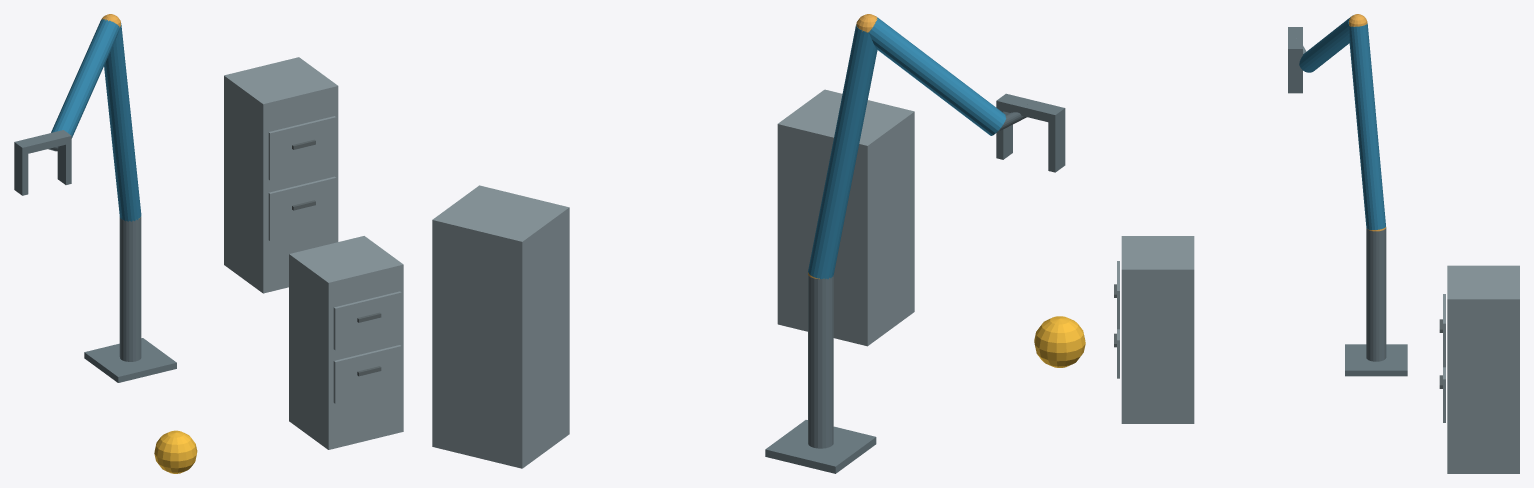
3 renders of one model, left to right at view 1: azimuth 30°, elevation 25°; view 2: azimuth 150°, elevation 25°; view 3: azimuth 270°, elevation 25°, orthographic. The views are drawn at different scales.
Visible parts, largest first — view 1: cabinet_2 body, cabinet_1 body, moving link 1, cabinet_2 drawer front, cabinet_2 drawer front.001, fixed post, cabinet_1 drawer front.001, cabinet_1 drawer front, moving link 2, pedestal, ball ball_1, gripper bridge (+2 smaller); view 2: cabinet_2 body, cabinet_1 body, moving link 1, fixed post, moving link 2, pedestal, ball ball_1, gripper bridge, gripper finger -1; view 3: cabinet_2 body, cabinet_1 body, moving link 1, fixed post, pedestal, moving link 2, gripper finger 1, gripper bridge.
Part boxes in pixels (x1,y1,x2,y2): cabinet_2 body: (224, 57, 338, 293); cabinet_1 body: (289, 236, 403, 449); moving link 1: (104, 23, 141, 221); cabinet_2 drawer front: (268, 176, 336, 241); cabinet_2 drawer front.001: (268, 116, 336, 180); fixed post: (119, 217, 141, 361); cabinet_1 drawer front.001: (333, 291, 401, 350); cabinet_1 drawer front: (333, 345, 401, 403); moving link 2: (51, 19, 119, 138); pedestal: (84, 338, 176, 382); ball ball_1: (154, 430, 197, 473); gripper bridge: (14, 130, 71, 155); cabinet_2 body: (432, 185, 569, 468); cabinet_1 body: (777, 89, 914, 346); moving link 1: (808, 24, 877, 279); fixed post: (808, 275, 833, 448); moving link 2: (869, 17, 1006, 135); pedestal: (765, 420, 876, 473); ball ball_1: (1034, 316, 1085, 367); gripper bridge: (996, 93, 1065, 123); gripper finger -1: (1048, 117, 1065, 172); cabinet_2 body: (1447, 265, 1519, 473); cabinet_1 body: (1121, 236, 1194, 423); moving link 1: (1348, 23, 1385, 229); fixed post: (1366, 227, 1386, 361); pedestal: (1345, 344, 1407, 376); moving link 2: (1299, 15, 1352, 72); gripper finger 1: (1288, 56, 1302, 93); gripper bridge: (1288, 27, 1302, 55).
Size of the model in its own units: 1.71 by 1.48 by 1.62.
